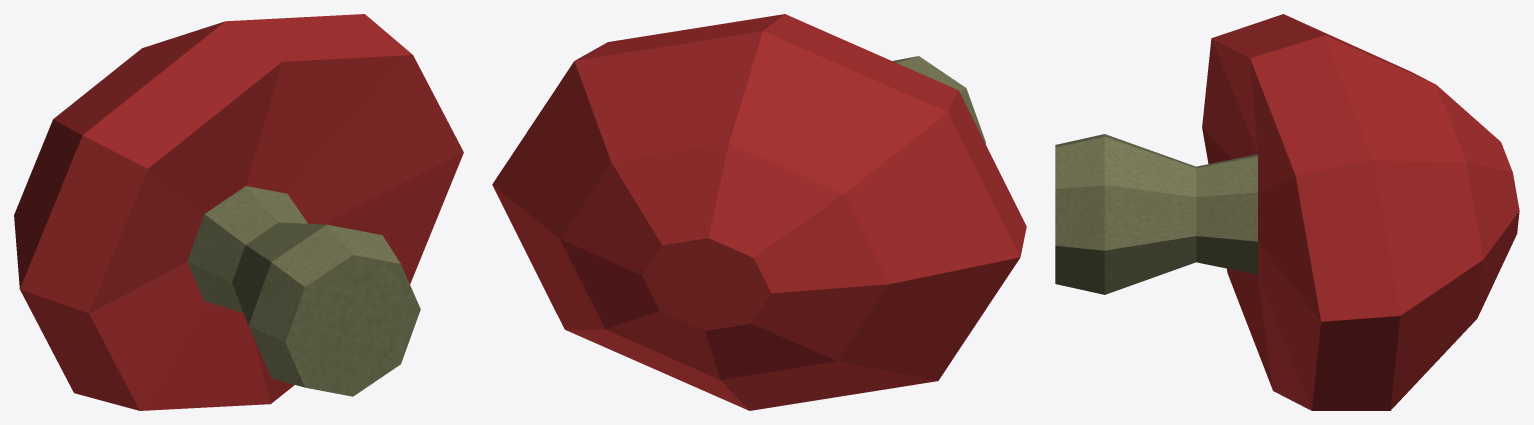
File: all_share_mushroom_1.FBX
The picture shows the model from 3 angles, left to right: view 1: azimuth 30°, elevation 25°; view 2: azimuth 150°, elevation 25°; view 3: azimuth 270°, elevation 25°; orthographic projection. The views are drawn at different scales.
Visible parts, largest first — view 1: mushroom_1; view 2: mushroom_1; view 3: mushroom_1.
Part boxes in pixels (<box>): mushroom_1: <box>14,14,463,410</box>; mushroom_1: <box>492,14,1026,410</box>; mushroom_1: <box>1055,14,1519,410</box>.
Size of the model in its own units: 58.15 by 44.31 by 52.67.
